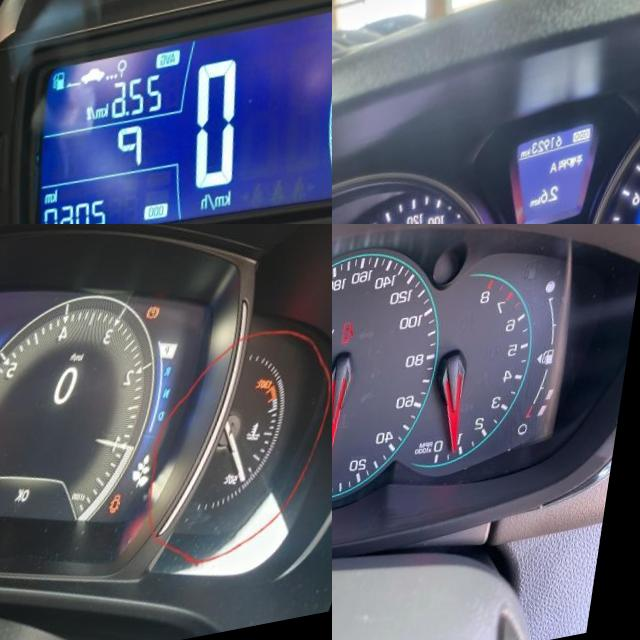Doors: (123, 504, 141, 528), (350, 334, 365, 359)
